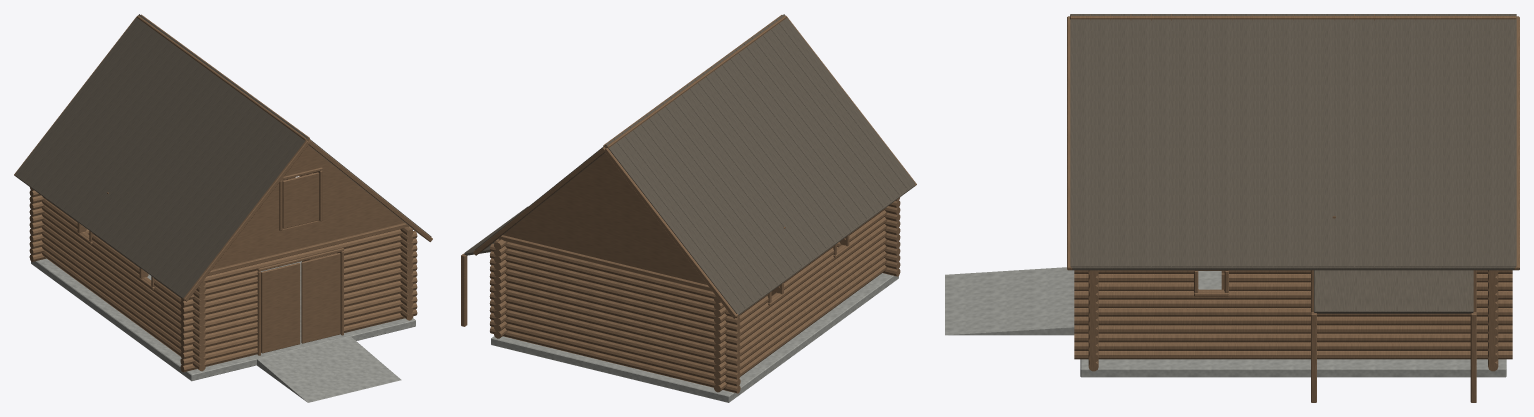
The picture shows the model from 3 angles, left to right: view 1: azimuth 30°, elevation 25°; view 2: azimuth 150°, elevation 25°; view 3: azimuth 270°, elevation 25°; orthographic projection. The views are drawn at different scales.
Parts seen in each view (by area): view 1: B01_roof_left, B01_wall_front, B01_foundation, B01_wall_left, B01_gable_front, B01_entry_leaf0, B01_entry_leaf1, B01_verge_-1_-1, B01_hay_hatch_leaf0, B01_wall_right, B01_wall_rear, B01_ridge; view 2: B01_roof_left, B01_wall_rear, B01_gable_rear, B01_wall_left, B01_foundation, B01_verge_1_-1, B01_wall_right, B01_wall_front, B01_ridge, B01_canopy_post_4_0.5; view 3: B01_roof_right, B01_wall_right, B01_foundation, B01_canopy, B01_ridge, B01_canopy_post_4_0.5, B01_wall_front, B01_wall_rear, B01_verge_1_-1, B01_verge_-1_-1.
Boxes of the visible parts, left/top/right/bottom form: B01_roof_left: left=15, top=14, right=307, bottom=298; B01_wall_front: left=180, top=167, right=417, bottom=372; B01_foundation: left=31, top=258, right=415, bottom=402; B01_wall_left: left=42, top=196, right=205, bottom=371; B01_gable_front: left=212, top=145, right=404, bottom=269; B01_entry_leaf0: left=261, top=262, right=300, bottom=353; B01_entry_leaf1: left=301, top=253, right=340, bottom=343; B01_verge_-1_-1: left=182, top=139, right=432, bottom=301; B01_hay_hatch_leaf0: left=282, top=172, right=319, bottom=228; B01_wall_right: left=285, top=172, right=413, bottom=320; B01_wall_rear: left=29, top=187, right=89, bottom=261; B01_ridge: left=137, top=14, right=309, bottom=140; B01_roof_left: left=605, top=14, right=915, bottom=315; B01_wall_rear: left=489, top=235, right=740, bottom=393; B01_gable_rear: left=503, top=153, right=707, bottom=284; B01_wall_left: left=714, top=207, right=887, bottom=392; B01_foundation: left=491, top=273, right=898, bottom=402; B01_verge_1_-1: left=473, top=147, right=738, bottom=318; B01_wall_right: left=494, top=239, right=507, bottom=338; B01_wall_front: left=837, top=197, right=900, bottom=276; B01_ridge: left=603, top=15, right=786, bottom=148; B01_canopy_post_4_0.5: left=461, top=253, right=467, bottom=326; B01_roof_right: left=1070, top=14, right=1516, bottom=270; B01_wall_right: left=1074, top=270, right=1512, bottom=359; B01_foundation: left=945, top=267, right=1506, bottom=377; B01_canopy: left=1314, top=270, right=1473, bottom=313; B01_ridge: left=1070, top=14, right=1516, bottom=20; B01_canopy_post_4_0.5: left=1311, top=270, right=1476, bottom=402; B01_wall_front: left=1088, top=270, right=1098, bottom=371; B01_wall_rear: left=1488, top=270, right=1498, bottom=371; B01_verge_1_-1: left=1514, top=16, right=1519, bottom=270; B01_verge_-1_-1: left=1067, top=16, right=1072, bottom=270.
Size of the model in its own units: 10.31 by 7.84 by 14.02.
5 materials, 4 textured.
